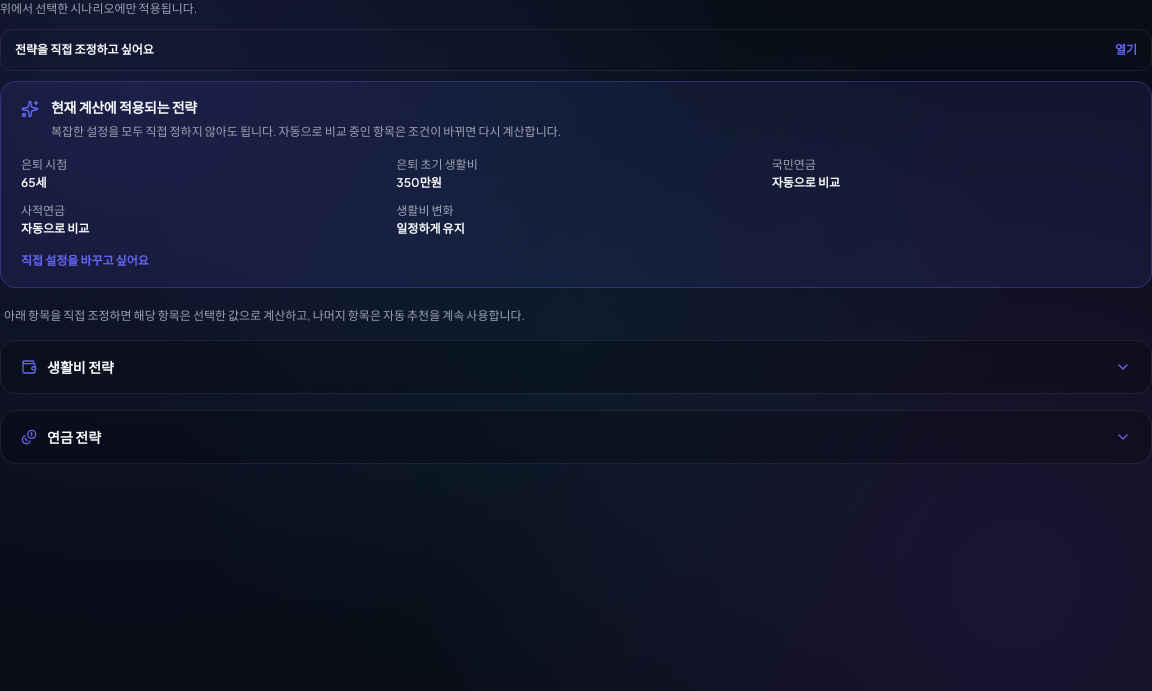
Test case: StrategySettingsPanel › 직접 조정 수준은 사용자가 열기 전까지 숨긴다
This screenshot has width=1152, height=691.
expect the radio button labelled "간편" is not shown: met
Click the link "직접 설정을 바꾸고 싶어요". click: (85, 261)
box: [21,253,149,269]
(page scrolled)
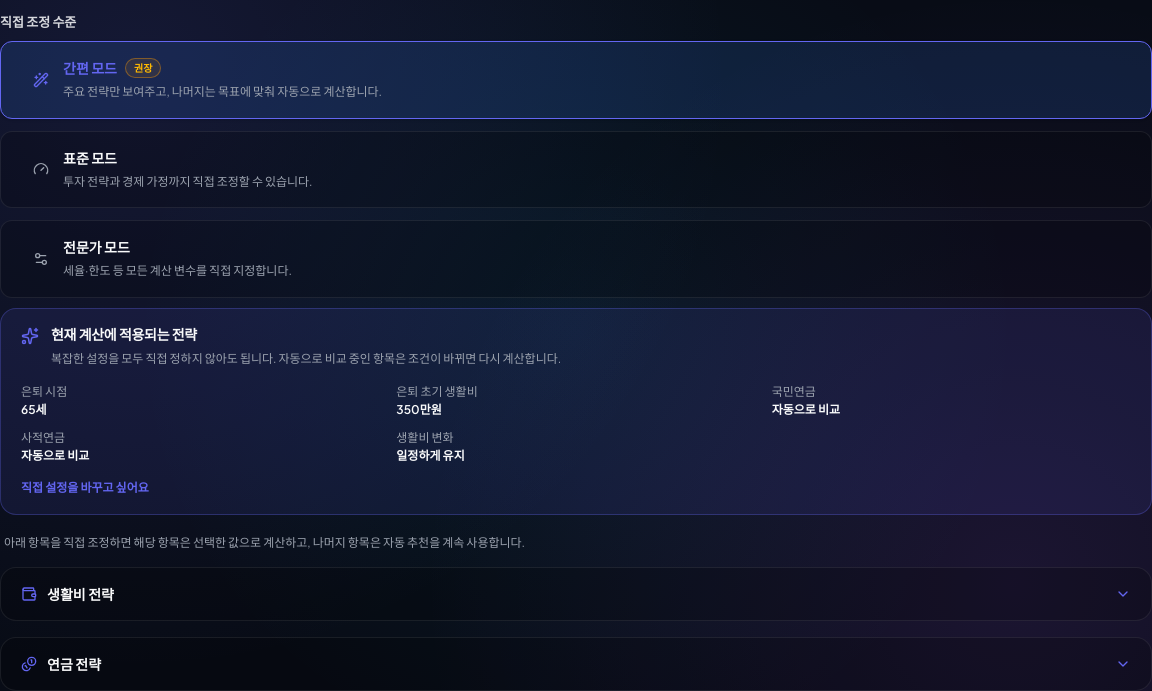
expect the radio button labelled "간편 모드 권장 주요 전략만 보여주고, 나머지는 목표에 맞춰 자동으로 계산합니다." is shown: met, box [0,41,1151,119]
